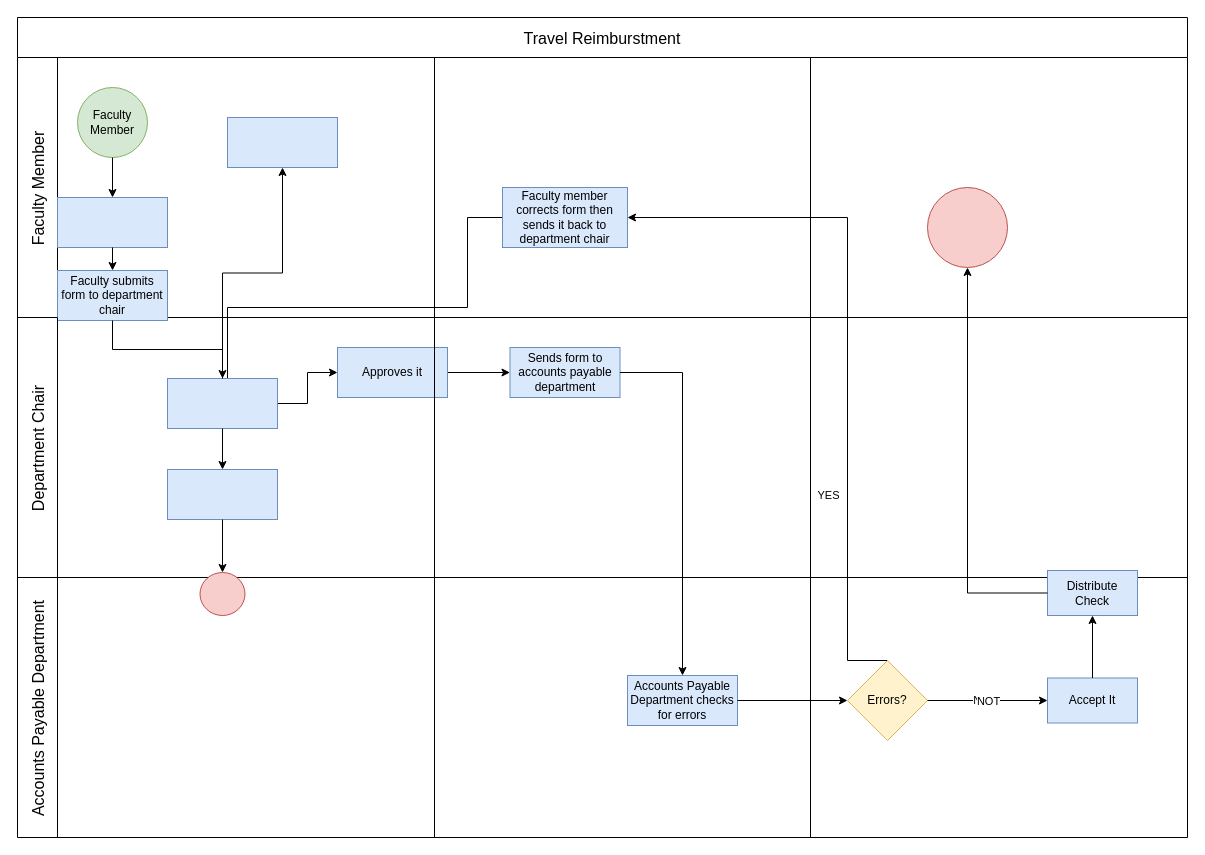
Image size: 1205x855. Some labels were removed from this diagram. Here are the shapes that lost their labels. From the top down, the centre of each, then its label:
point (282, 142): Returns to faculty member for corrections
point (112, 222): Fills out an expense form
point (967, 227): Faculty member receives check
point (222, 403): Department chair reviews the form
point (222, 494): Rejects the application and process ends
